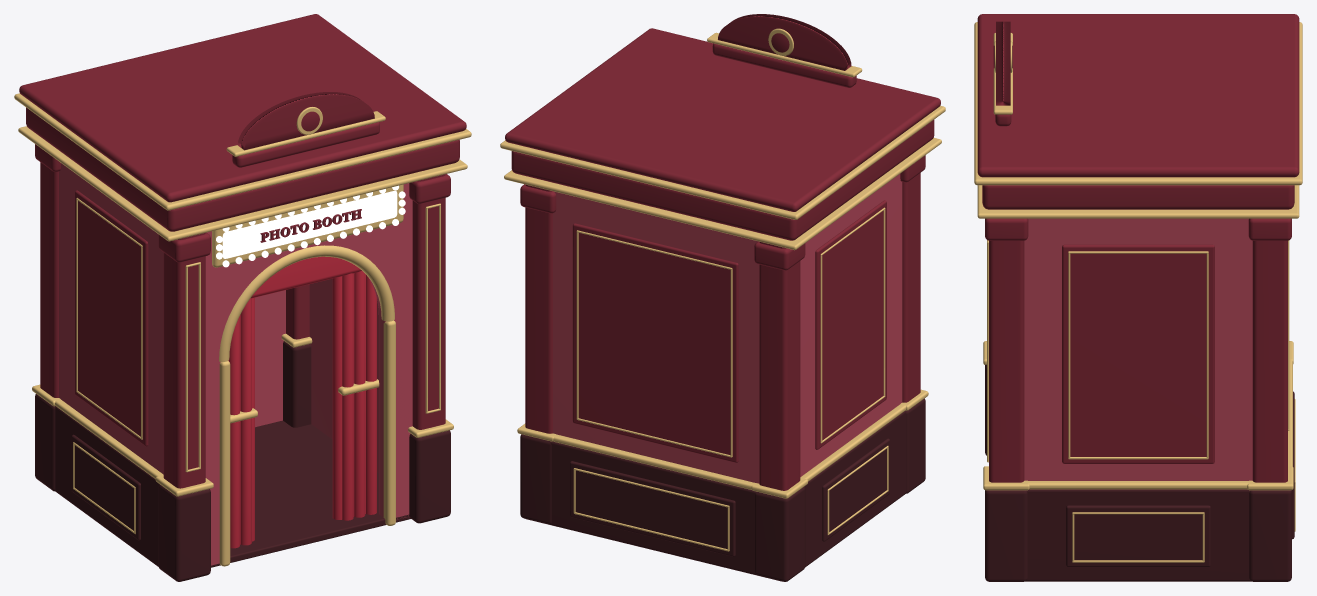
File: booth.glb
The picture shows the model from 3 angles, left to right: view 1: azimuth 30°, elevation 25°; view 2: azimuth 150°, elevation 25°; view 3: azimuth 270°, elevation 25°; orthographic projection. The views are drawn at different scales.
Visible parts, largest first — view 1: booth; view 2: booth; view 3: booth.
Boxes of the visible parts, x1,y1,x2,y2 form: booth: (14, 14, 471, 581); booth: (500, 14, 945, 581); booth: (974, 14, 1302, 581).
Size of the model in its own units: 2.34 by 3.27 by 2.04.
